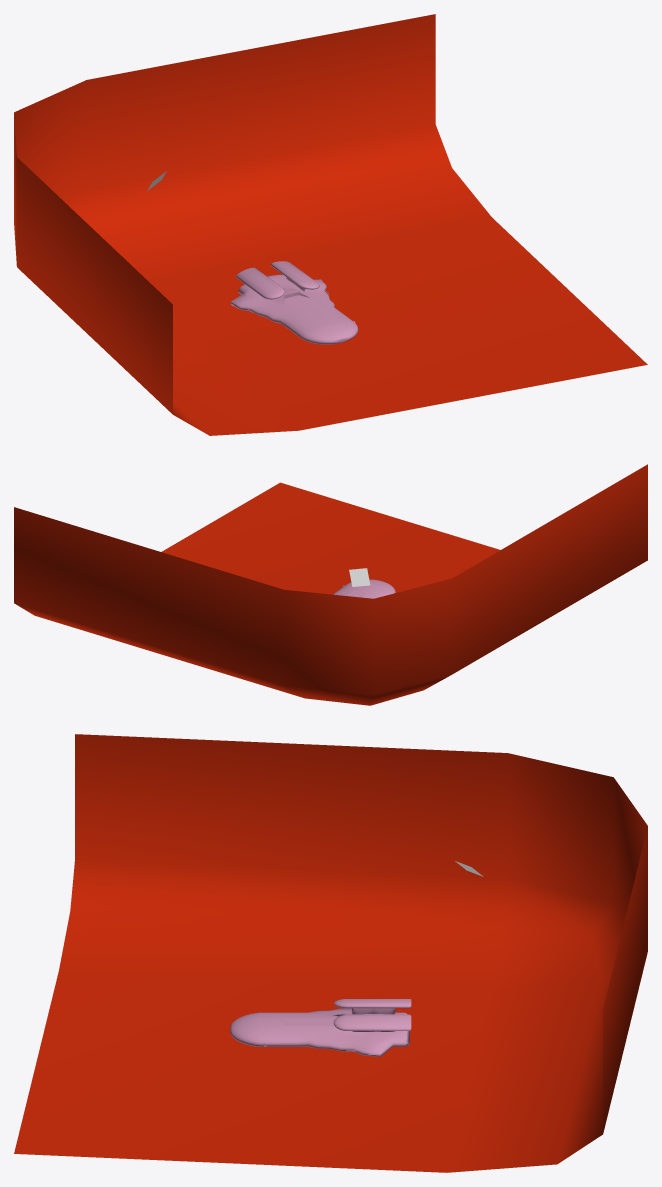
3 renders of one model, top to bottom at view 1: azimuth 30°, elevation 25°; view 2: azimuth 150°, elevation 25°; view 3: azimuth 270°, elevation 25°, orthographic. The views are drawn at different scales.
Parts seen in each view (by area): view 1: Cube.001, cruiser; view 2: Cube.001, cruiser; view 3: Cube.001, cruiser.
Boxes of the visible parts, x1=… form: Cube.001: x1=14, y1=14, x2=647, y2=435; cruiser: x1=230, y1=261, x2=358, y2=344; Cube.001: x1=14, y1=464, x2=647, y2=705; cruiser: x1=333, y1=579, x2=395, y2=598; Cube.001: x1=14, y1=734, x2=647, y2=1172; cruiser: x1=230, y1=999, x2=411, y2=1056.
Bounding box in the file's own units: 10.77 × 3.15 × 10.5.
